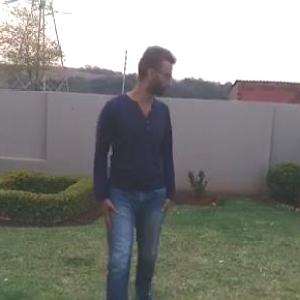follow: (90, 36, 184, 299)
